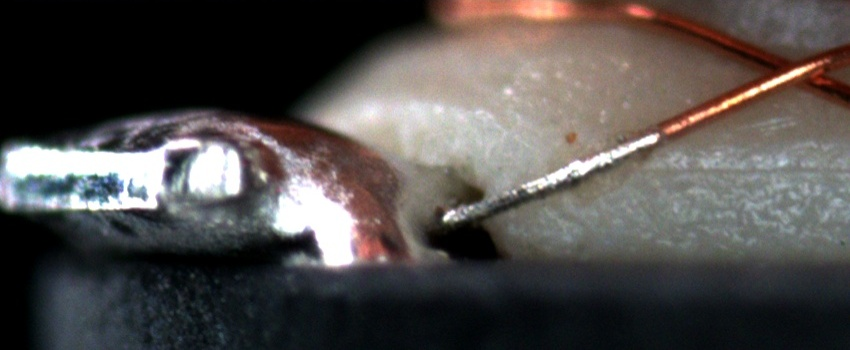CL: (741, 40, 841, 98)
DL: (636, 137, 850, 198)
TS: (442, 127, 664, 226)
